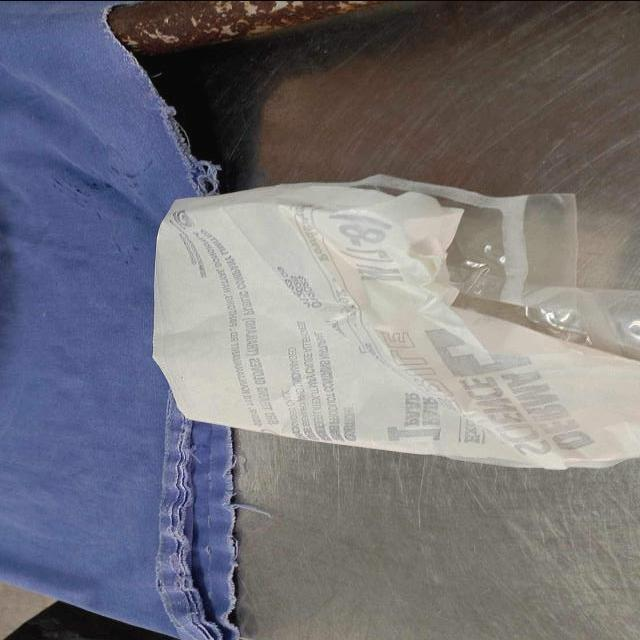Infectious: (150, 176, 638, 471)
